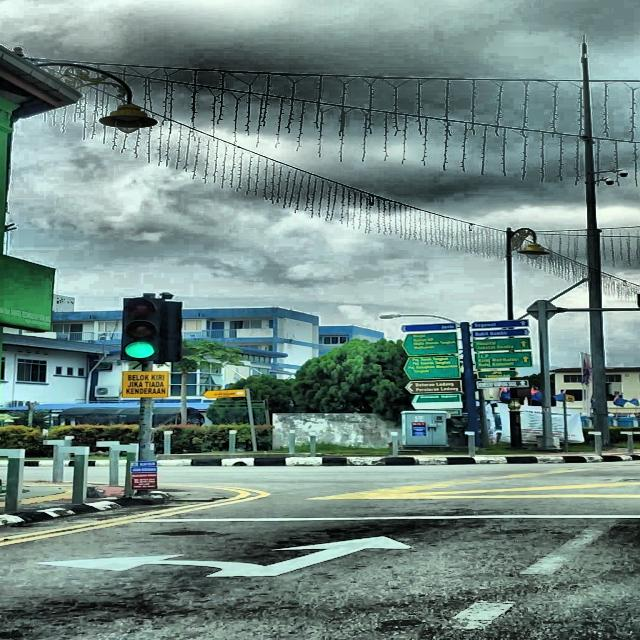green: (121, 296, 162, 362)
